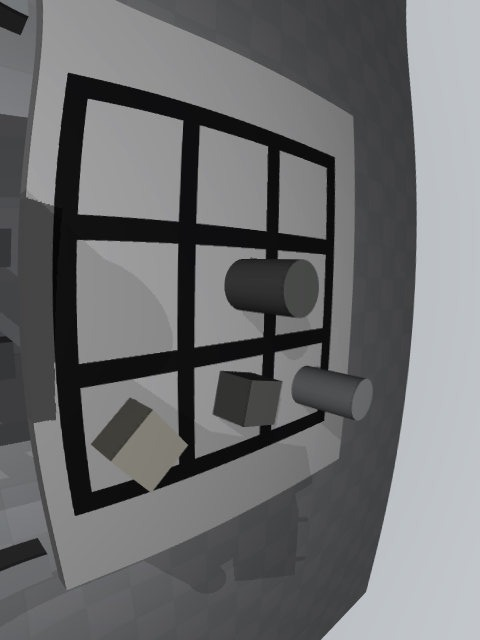can: (291, 366, 373, 421)
cube: (213, 371, 283, 427)
cylinder: (224, 259, 319, 319)
foam: (91, 398, 188, 492)
